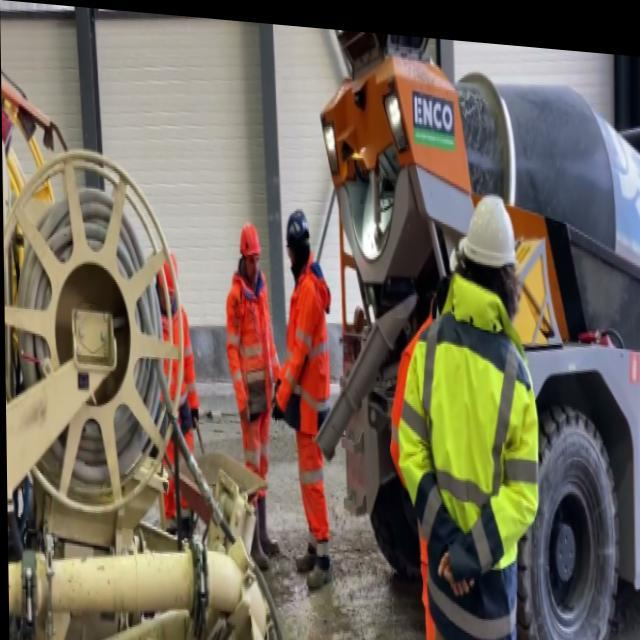boots: (241, 493, 283, 584), (291, 531, 336, 598), (163, 509, 197, 544)
helmet: (456, 188, 525, 304), (235, 218, 264, 283), (282, 202, 311, 265), (158, 246, 179, 310)
vest: (394, 264, 546, 640), (384, 283, 522, 620), (223, 254, 281, 421), (279, 252, 335, 418), (153, 296, 201, 421)
